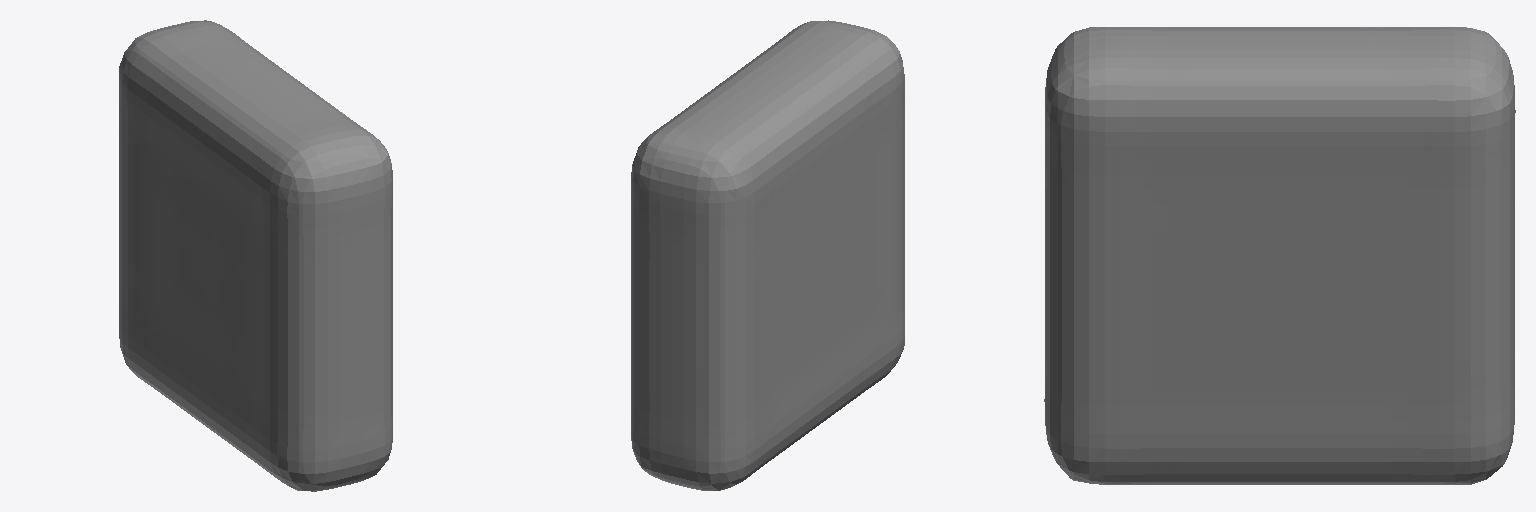
The robot description file, URDF, robot "cube.urdf":
<?xml version="0.0" ?> 
<robot name="cube.urdf"> 
<link name="legobrick"> 
<contact> 
<lateral_friction value="5.0"/> 
<rolling_friction value="0.0"/> 
<contact_cfm value="0.0"/> 
<contact_erp value="1.0"/> 
</contact> 
<inertial> 
<origin rpy="0 0 0" xyz="0.0 0.0 0.0"/> 
<mass value=".01"/> 
<inertia ixx="1" ixy="0" ixz="0" iyy="1" iyz="0" izz="1"/> 
</inertial> 
<visual> 
<origin rpy="1.570796 0 0" xyz="-0.04410795983693038 0.025820245491486527 -0.025820672197591616"/> 
<geometry> 
<mesh filename="U02_3.obj" scale="0.0005598706568892594 0.0005598706568892594 0.0005598706568892594"/> 
</geometry> 
<material name="yellow"> 
<color rgba="0.6 0.6 0.6 1"/> 
</material> 
</visual> 
<collision> 
<origin rpy="1.570796 0 0" xyz="-0.04410795983693038 0.025820245491486527 -0.025820672197591616"/> 
<geometry> 
<mesh filename="U02_3.obj" scale="0.0005598706568892594 0.0005598706568892594 0.0005598706568892594"/> 
</geometry> 
</collision> 
</link> 
</robot>

--- Facts derived from the render (not from the file) ---
The picture shows the robot from 3 angles, left to right: view 1: azimuth 30°, elevation 25°; view 2: azimuth 150°, elevation 25°; view 3: azimuth 270°, elevation 25°; orthographic projection.
Model cube.urdf with 1 links and 0 joints (none), rooted at legobrick, posed every joint at zero.
Visible links, largest first — view 1: legobrick; view 2: legobrick; view 3: legobrick.
Boxes of the visible links, x1,y1,x2,y2 form: legobrick: (119,20,392,491); legobrick: (631,20,904,490); legobrick: (1044,27,1515,484).
Bounding box of the posed robot: 0.0193 × 0.056 × 0.056 m (x, y, z).
Meshes: 1 distinct files referenced, 1 mesh visuals loaded (1 OBJ).
